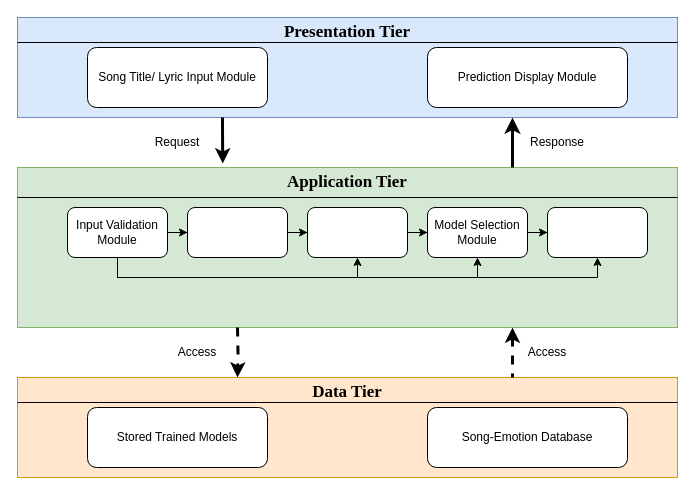
Some shapes in this 696 by 495 pixel diagram are drawn without their labels. Each missing label, with the box of its shape:
Emotion Prediction Module: (546, 206, 648, 258)
Lyric API Call Module: (186, 206, 288, 258)
Preprocessing Module: (306, 206, 408, 258)
